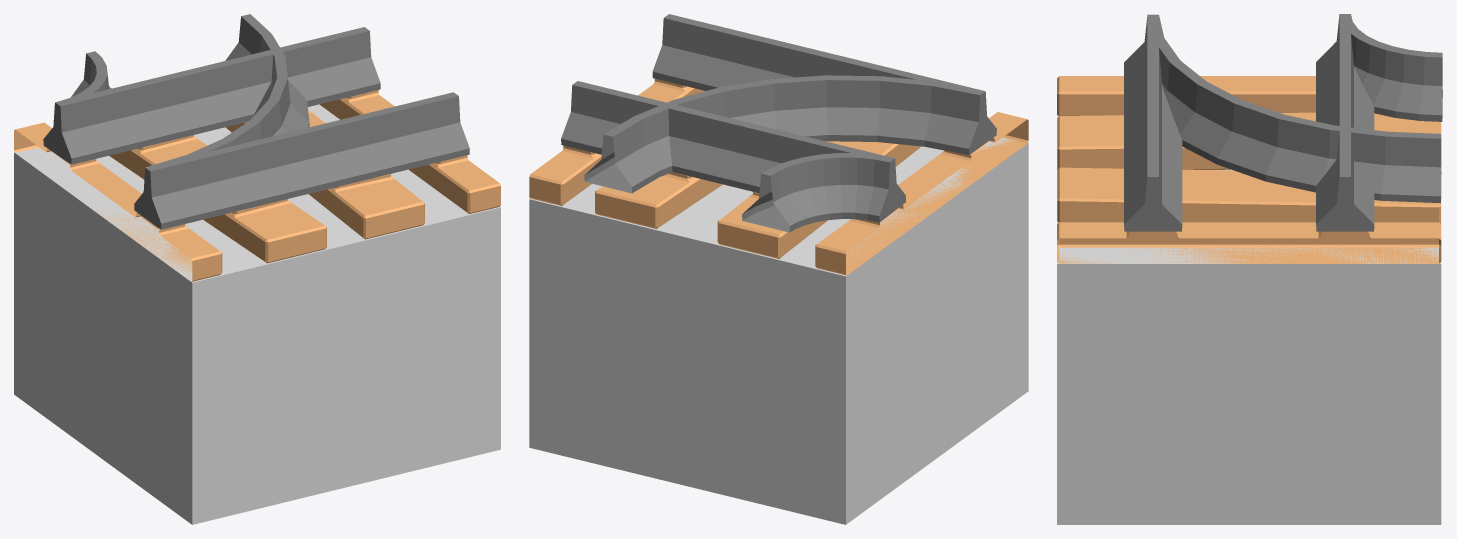
Rendered from Rail_Angle.fbx.
The picture shows the model from 3 angles, left to right: view 1: azimuth 30°, elevation 25°; view 2: azimuth 150°, elevation 25°; view 3: azimuth 270°, elevation 25°; orthographic projection. The views are drawn at different scales.
Parts seen in each view (by area): view 1: Rail Angle; view 2: Rail Angle; view 3: Rail Angle.
Boxes of the visible parts, bbox=[...] form: Rail Angle: bbox=[14, 14, 500, 524]; Rail Angle: bbox=[529, 14, 1028, 524]; Rail Angle: bbox=[1057, 14, 1442, 524].
Size of the model in its own units: 101 by 100 by 100.
